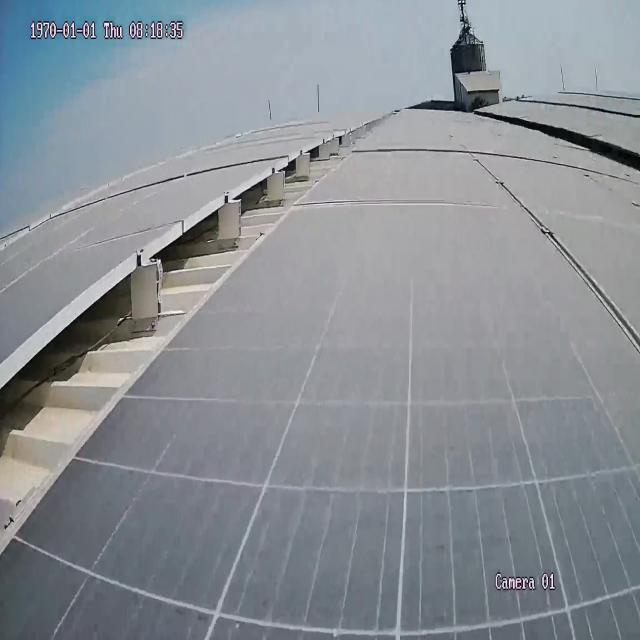interior panel: (469, 156, 639, 348)
outher panel: (0, 113, 388, 540)
